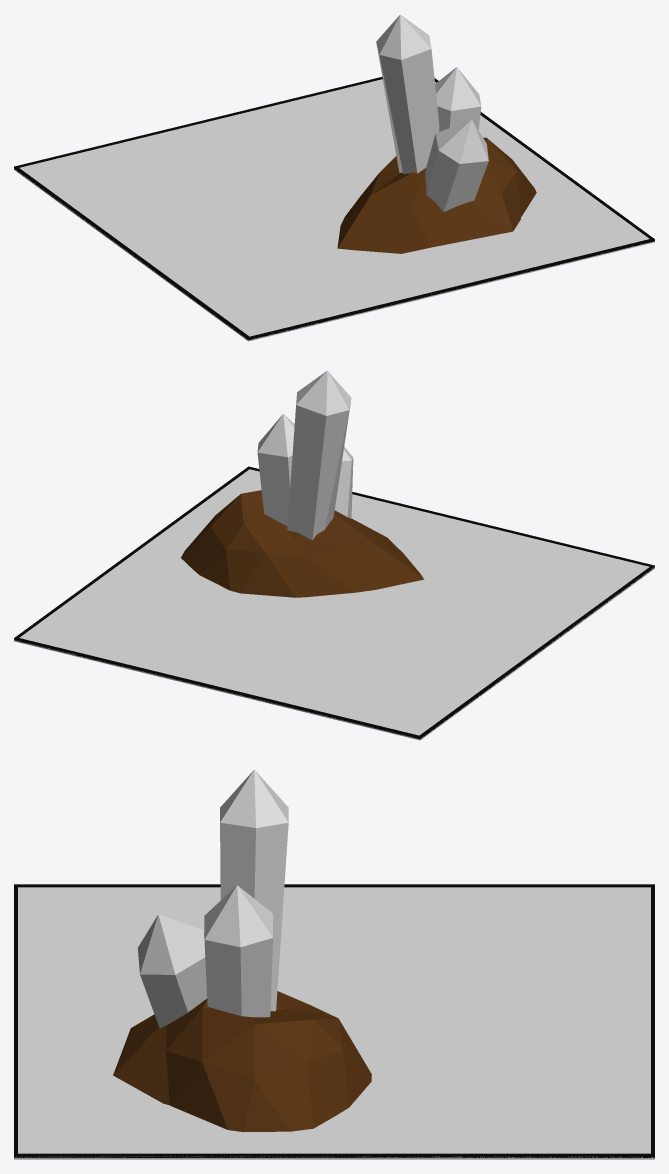
The model's file is terrain.glb.
3 renders of one model, top to bottom at view 1: azimuth 30°, elevation 25°; view 2: azimuth 150°, elevation 25°; view 3: azimuth 270°, elevation 25°, orthographic. The views are drawn at different scales.
Parts seen in each view (by area): view 1: top, crystal, ore, border; view 2: top, ore, crystal, border; view 3: top, ore, crystal, border.
Part boxes in pixels (bbox=[...]): top: bbox=[14, 79, 654, 341]; crystal: bbox=[376, 14, 488, 211]; ore: bbox=[337, 137, 536, 253]; border: bbox=[14, 77, 654, 340]; top: bbox=[14, 469, 654, 740]; ore: bbox=[181, 490, 424, 597]; crystal: bbox=[257, 370, 353, 540]; border: bbox=[14, 466, 654, 739]; top: bbox=[14, 887, 654, 1159]; ore: bbox=[113, 991, 371, 1131]; crystal: bbox=[137, 769, 288, 1028]; border: bbox=[14, 884, 654, 1157].
Bounding box in the file's own units: 40 × 19.21 × 40.
